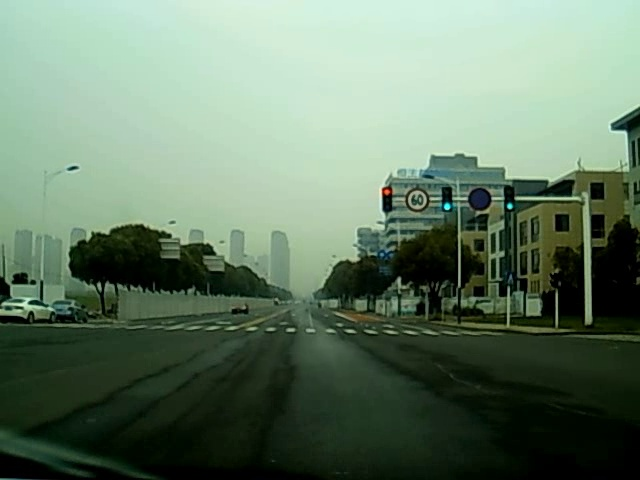Traffic_Light_go: (502, 186, 515, 215), (440, 188, 451, 215)
Traffic_Light_stop: (381, 187, 392, 213)
